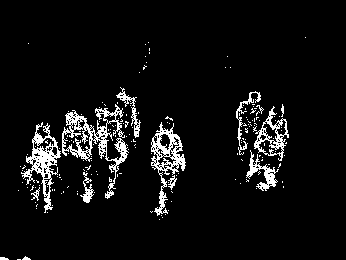person: (150, 117, 186, 217), (22, 120, 60, 212), (252, 100, 288, 189), (60, 108, 94, 202), (100, 121, 129, 200), (232, 89, 266, 155)
